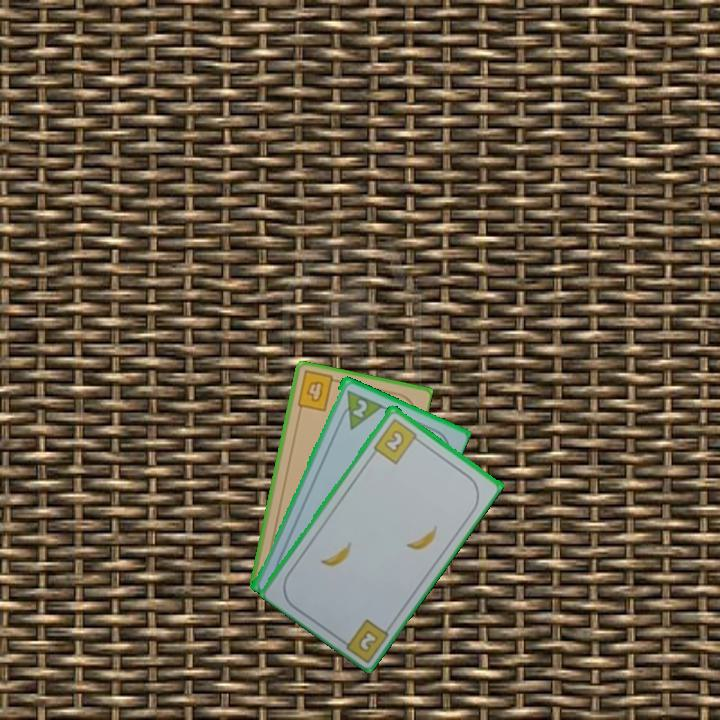2b: (370, 415, 424, 466), (354, 626, 381, 655)
2p: (334, 386, 384, 432)
4b: (293, 368, 342, 415)
